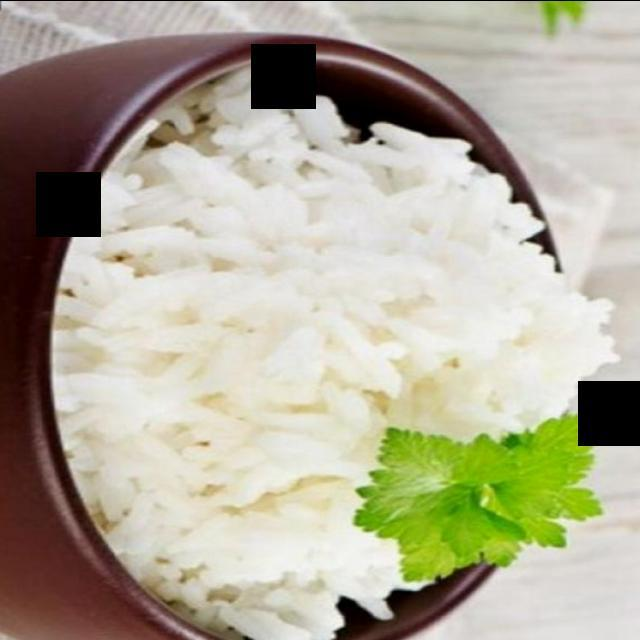rice: (51, 68, 618, 640)
